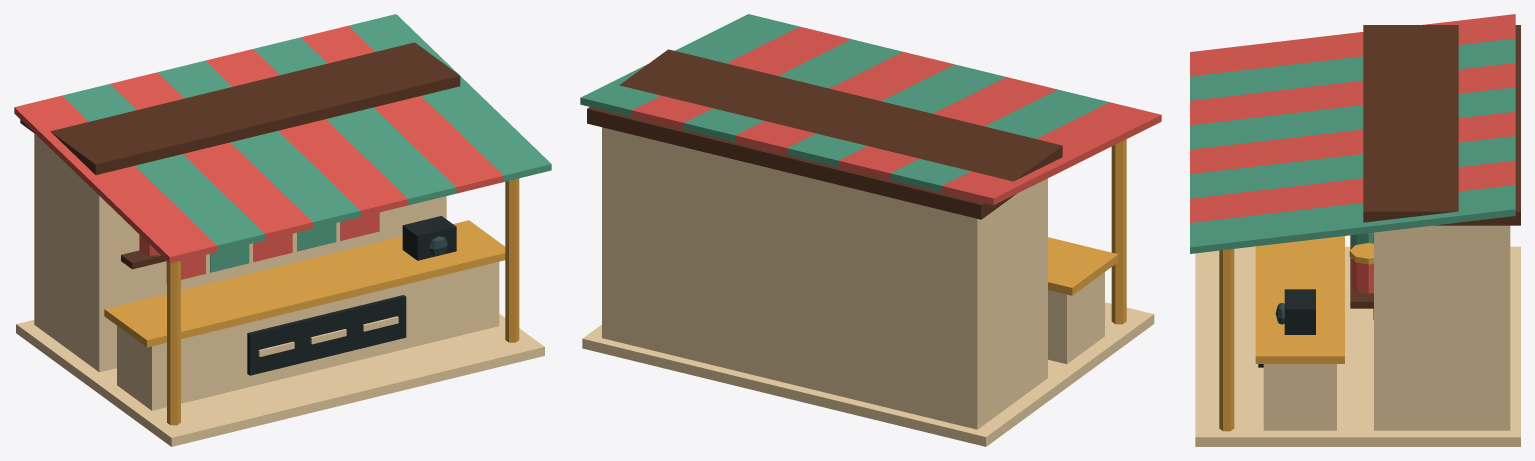
Rendered from ParkParkBoothPhoto.obj.
3 views of the same model, side by side, from view 1: azimuth 30°, elevation 25°; view 2: azimuth 150°, elevation 25°; view 3: azimuth 270°, elevation 25° (orthographic). The views are drawn at different scales.
Parts seen in each view (by area): view 1: ParkParkBoothPhoto; view 2: ParkParkBoothPhoto; view 3: ParkParkBoothPhoto.
Part boxes in pixels (x1,y1,x2,y2): ParkParkBoothPhoto: (14,14,551,446); ParkParkBoothPhoto: (580,14,1161,446); ParkParkBoothPhoto: (1190,14,1520,446).
Size of the model in its own units: 8.8 by 5.04 by 6.3.
